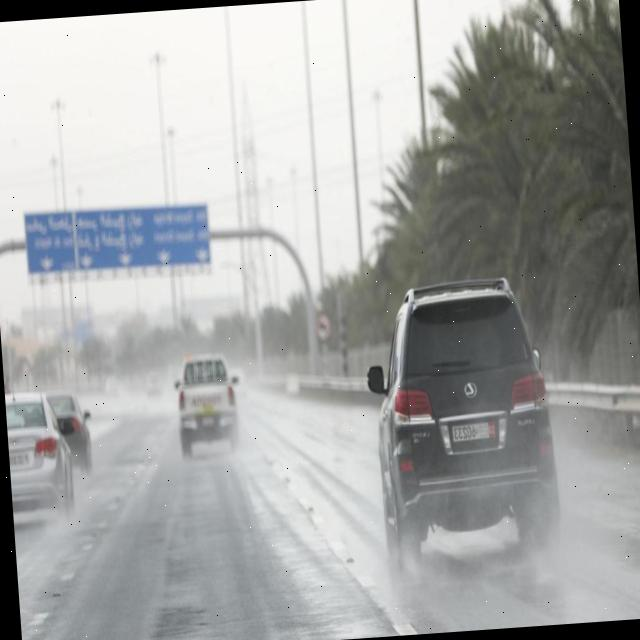car: (361, 276, 562, 570), (5, 389, 76, 526), (172, 352, 245, 453), (45, 386, 93, 474)
